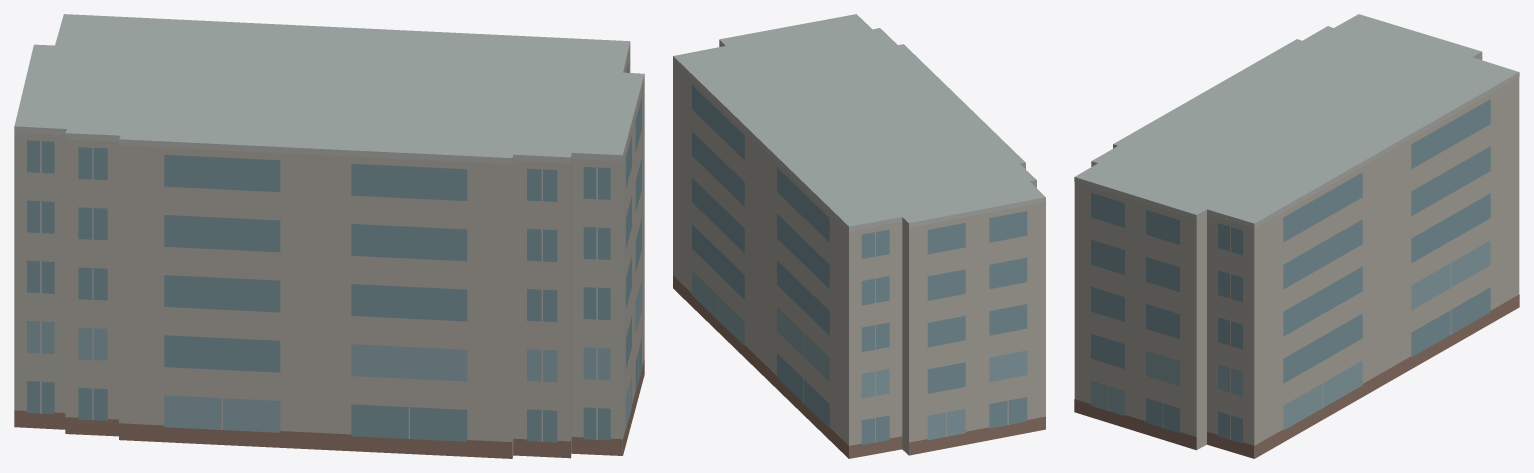
File: survey-upis-32649193.glb
3 renders of one model, left to right at view 1: azimuth 30°, elevation 25°; view 2: azimuth 150°, elevation 25°; view 3: azimuth 270°, elevation 25°, orthographic. The views are drawn at different scales.
Parts seen in each view (by area): view 1: survey-upis-32649193.tmp; view 2: survey-upis-32649193.tmp; view 3: survey-upis-32649193.tmp.
Part boxes in pixels (bbox=[...]): survey-upis-32649193.tmp: bbox=[14, 14, 644, 458]; survey-upis-32649193.tmp: bbox=[673, 14, 1045, 458]; survey-upis-32649193.tmp: bbox=[1074, 14, 1519, 458].
Size of the model in its own units: 22.94 by 12 by 20.58.
